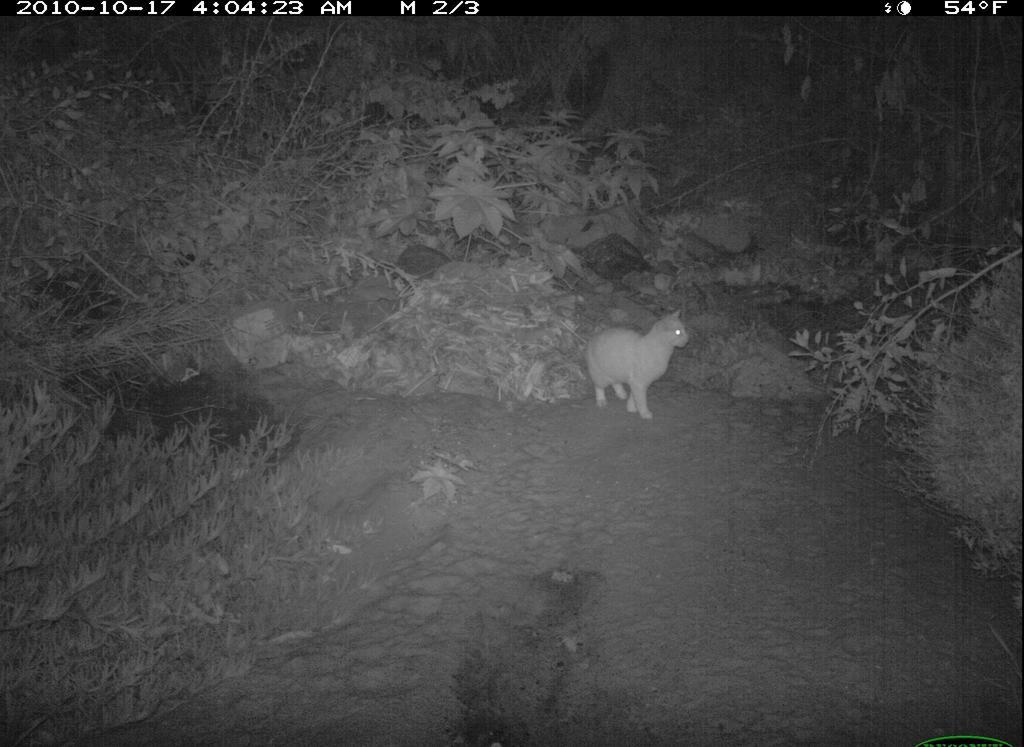cat: (574, 296, 705, 425)
